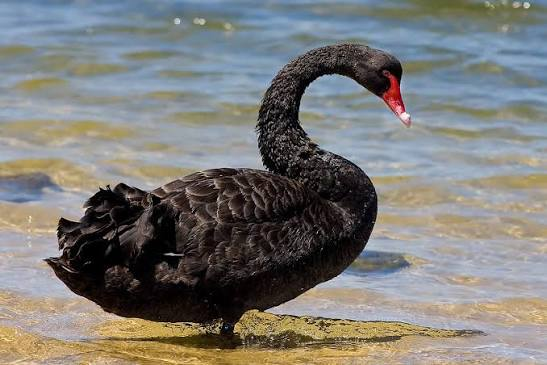black_swan: (41, 42, 412, 343)
